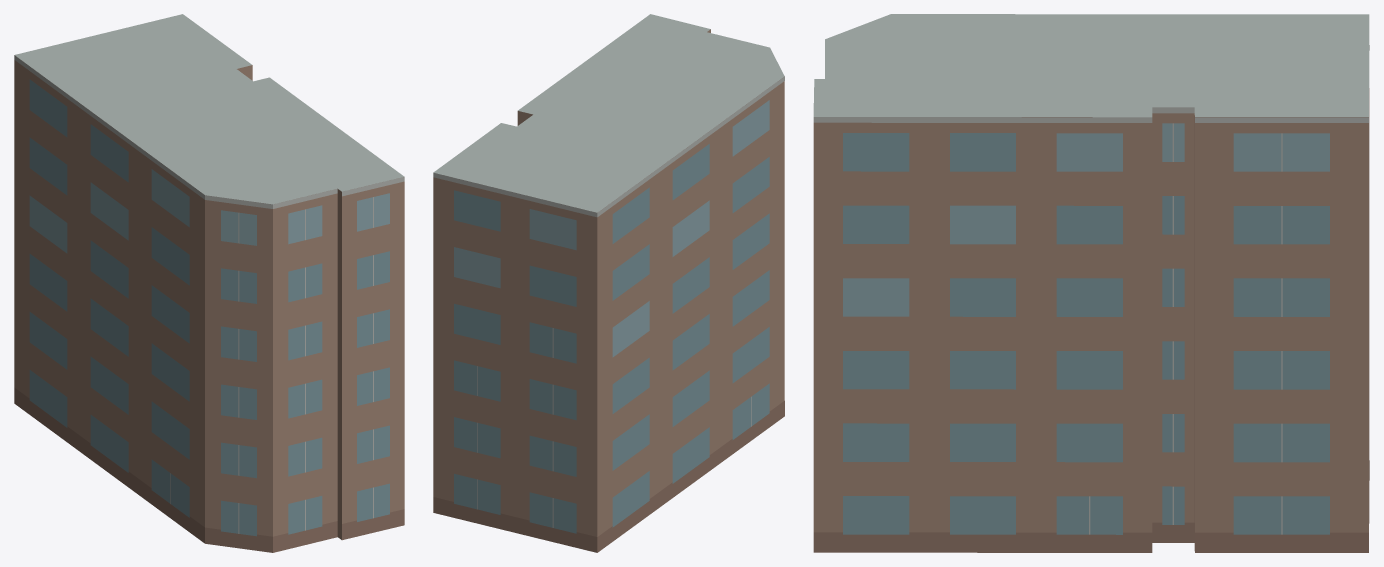
The model's file is survey-upis-32736430.glb.
3 renders of one model, left to right at view 1: azimuth 30°, elevation 25°; view 2: azimuth 150°, elevation 25°; view 3: azimuth 270°, elevation 25°, orthographic. The views are drawn at different scales.
Visible parts, largest first — view 1: survey-upis-32736430.tmp; view 2: survey-upis-32736430.tmp; view 3: survey-upis-32736430.tmp.
Boxes of the visible parts, x1,y1,x2,y2 form: survey-upis-32736430.tmp: (14, 14, 404, 552); survey-upis-32736430.tmp: (433, 14, 784, 552); survey-upis-32736430.tmp: (813, 14, 1369, 552).
Bounding box in the file's own units: 9.15 × 18 × 20.83.
